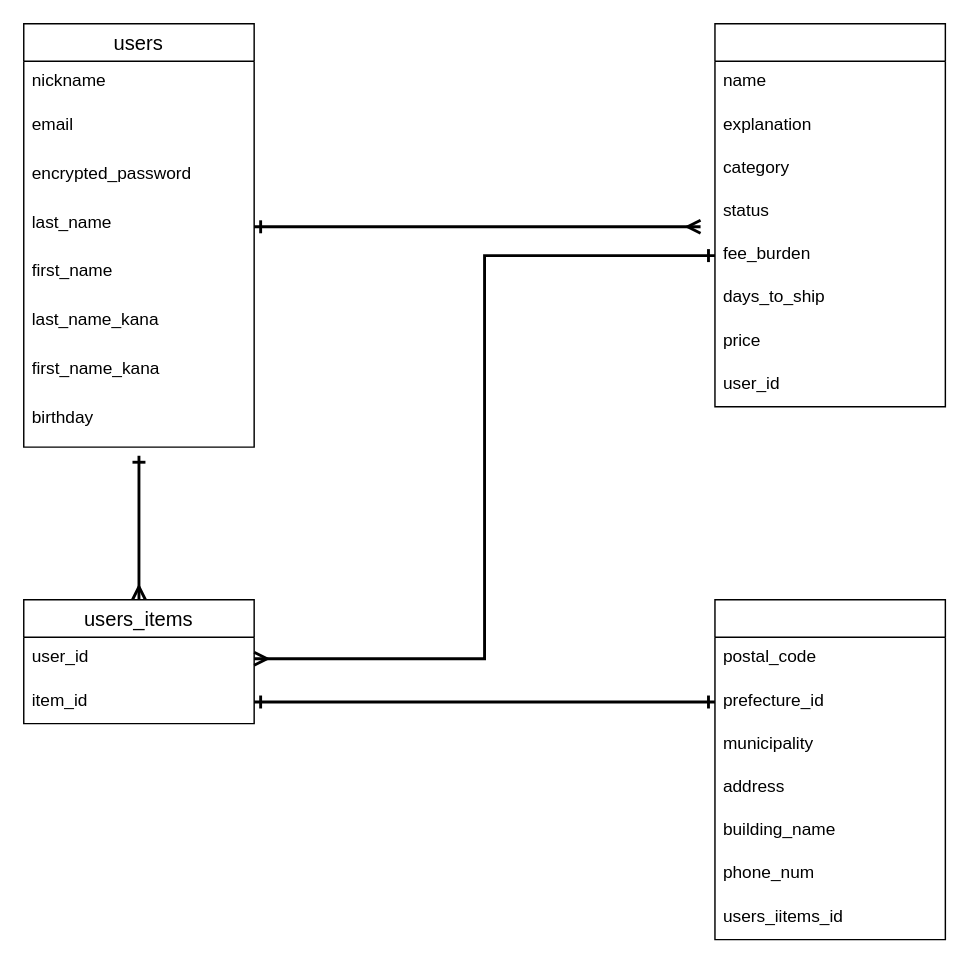
The diagram is 969 pixels wide and 963 high, and some of its shapes have lost their labels. Each missing label, with the box of its shape:
items: (714, 22, 945, 407)
purchases: (714, 598, 945, 940)
